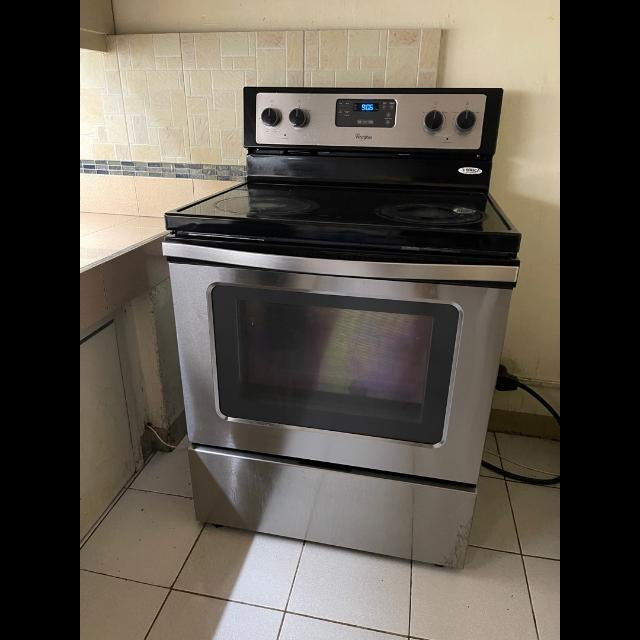Oven: (162, 210, 514, 568)
